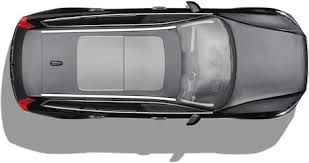car: (11, 1, 308, 128)
